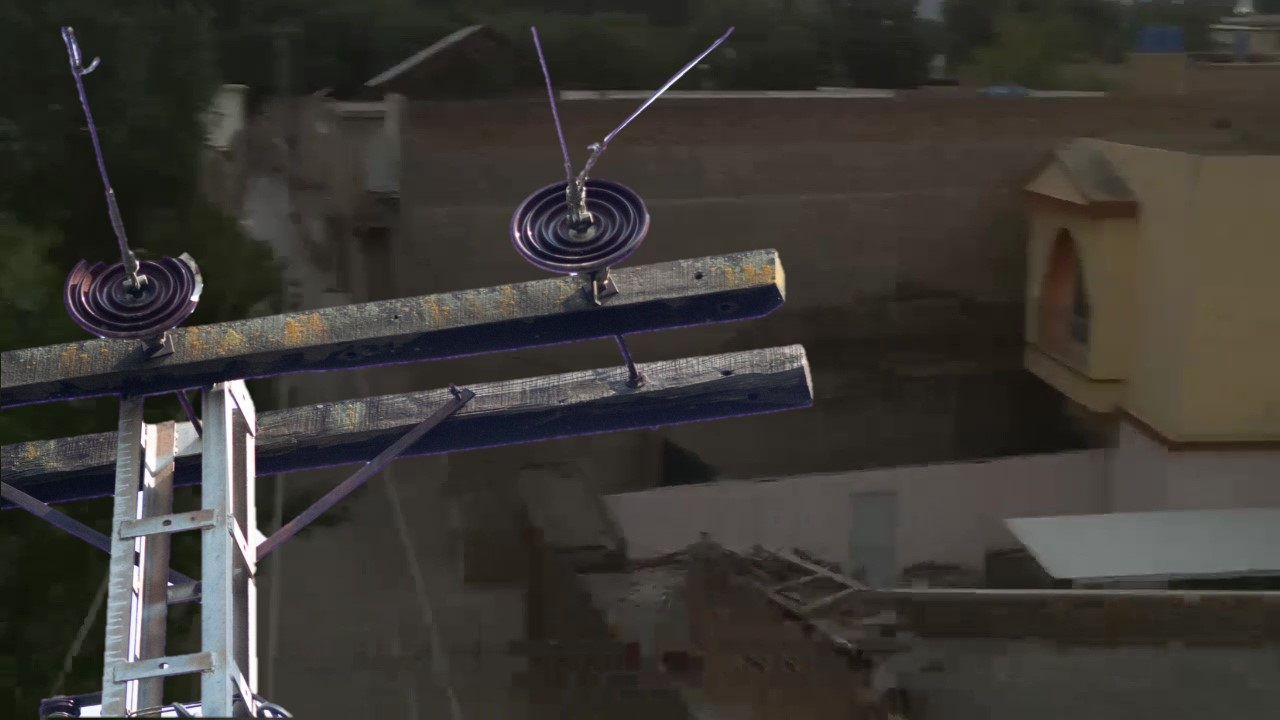defect_disc: (57, 236, 213, 345)
insulator_disc: (505, 168, 654, 276)
